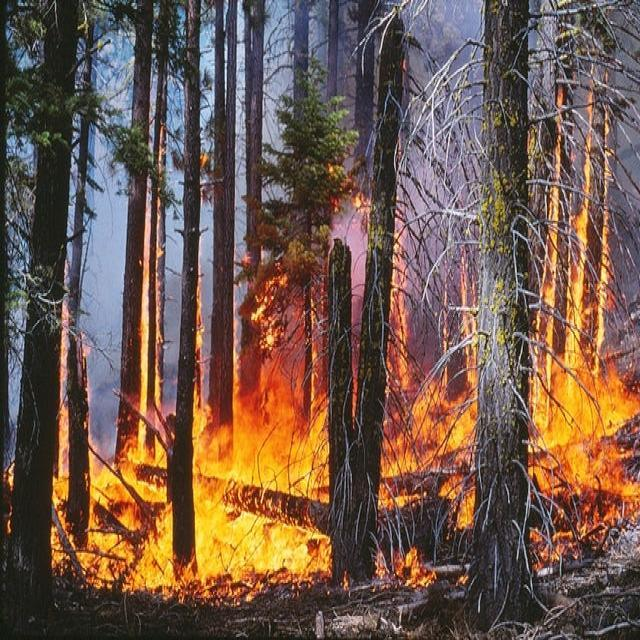Fire: (86, 424, 337, 589), (539, 363, 629, 534), (382, 384, 470, 512), (234, 358, 326, 422)
Smoke: (85, 160, 125, 425)
